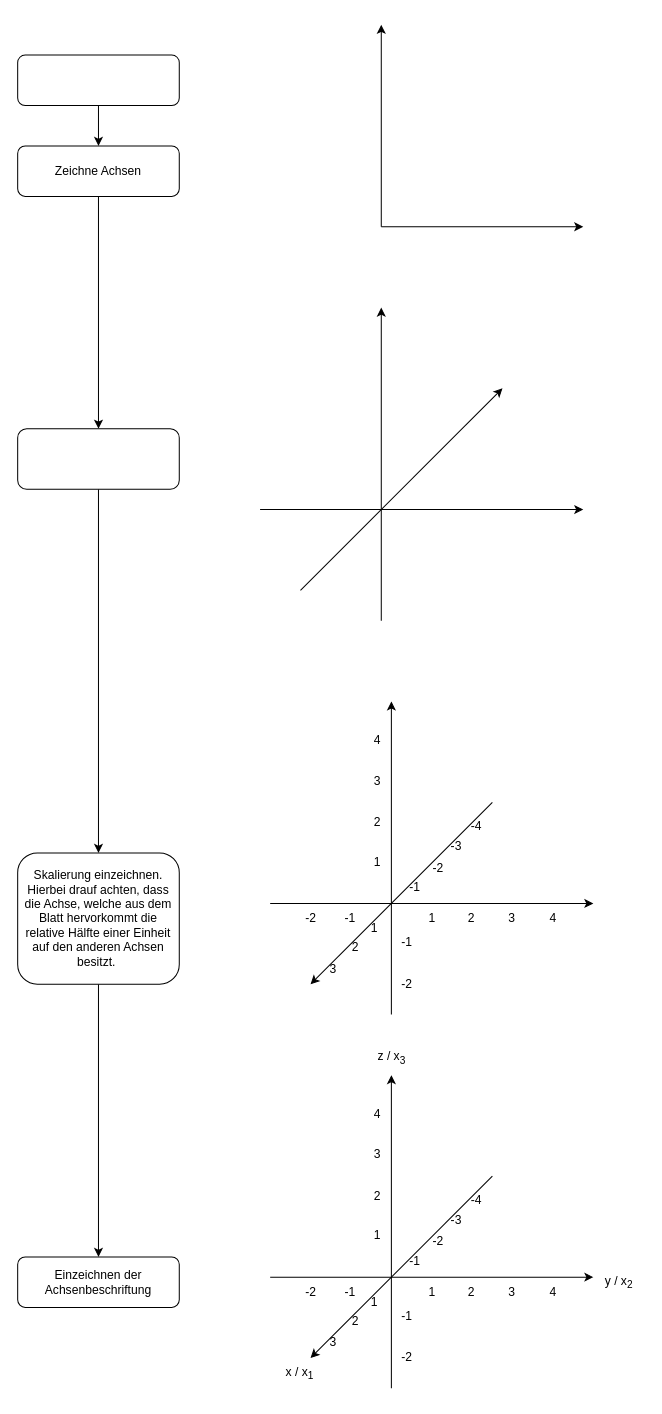
Some shapes in this 662 by 1414 pixel diagram are drawn without their labels. The centre of each missing label's shape, as x and y in pixels:
"3D-Koordinatensystem zeichnen" goes at [98,80].
"Im 45° Winkel eine Gerade durch den Ursprung" goes at [98,458].
